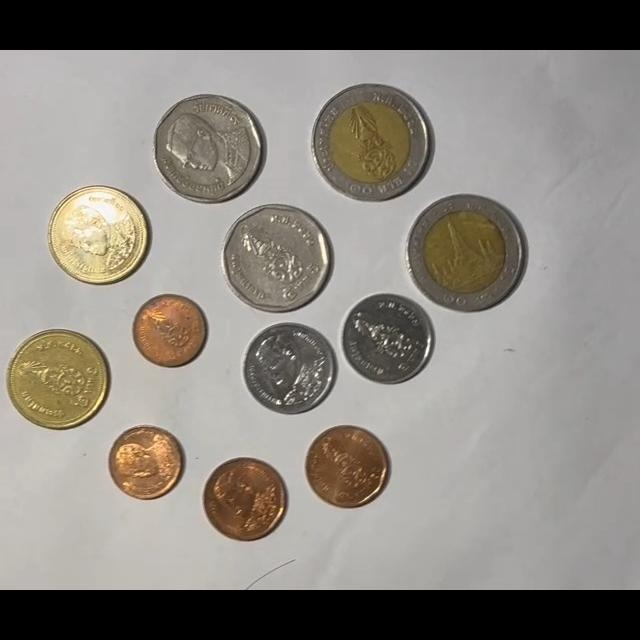1-baht: (242, 322, 337, 416), (341, 293, 432, 386)
10-baht: (311, 83, 431, 202), (406, 195, 525, 313)
2-baht: (7, 328, 110, 430), (48, 185, 148, 285)
25-satang: (108, 426, 185, 501), (132, 294, 207, 367)
5-baht: (153, 93, 265, 204), (221, 204, 332, 314)
50-satang: (202, 457, 288, 542), (305, 425, 390, 509)
